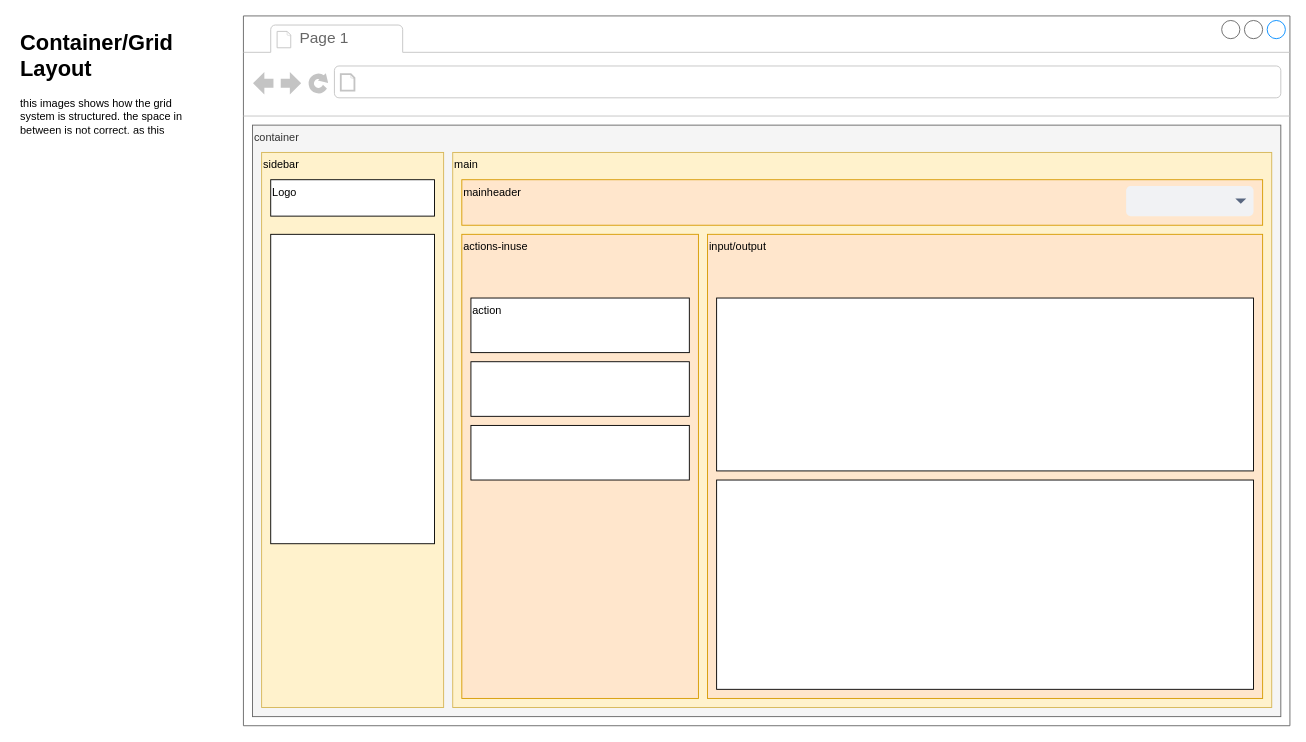
Some shapes in this 1306 by 742 pixel diagram are drawn without their labels. The shapes that lost their labels are listed below. From the top down, each one's centre as x and y in pixels, then its label:
point (475, 82): https://web3toolkit.dev
point (1189, 201): Ethereum
point (352, 388): sidenav
point (985, 384): Input
point (985, 584): Output
